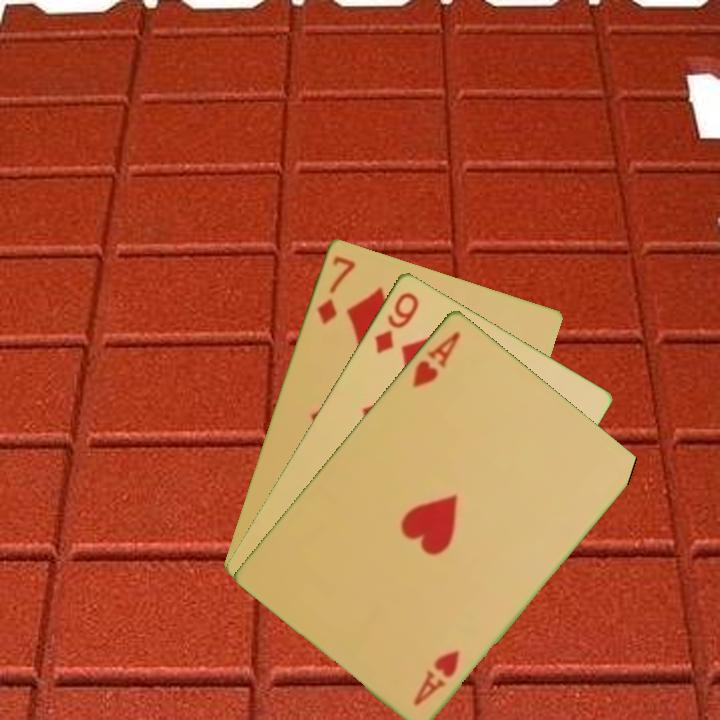7d: (313, 252, 358, 327)
9d: (370, 288, 422, 356)
Ah: (408, 327, 463, 390), (409, 646, 463, 708)
